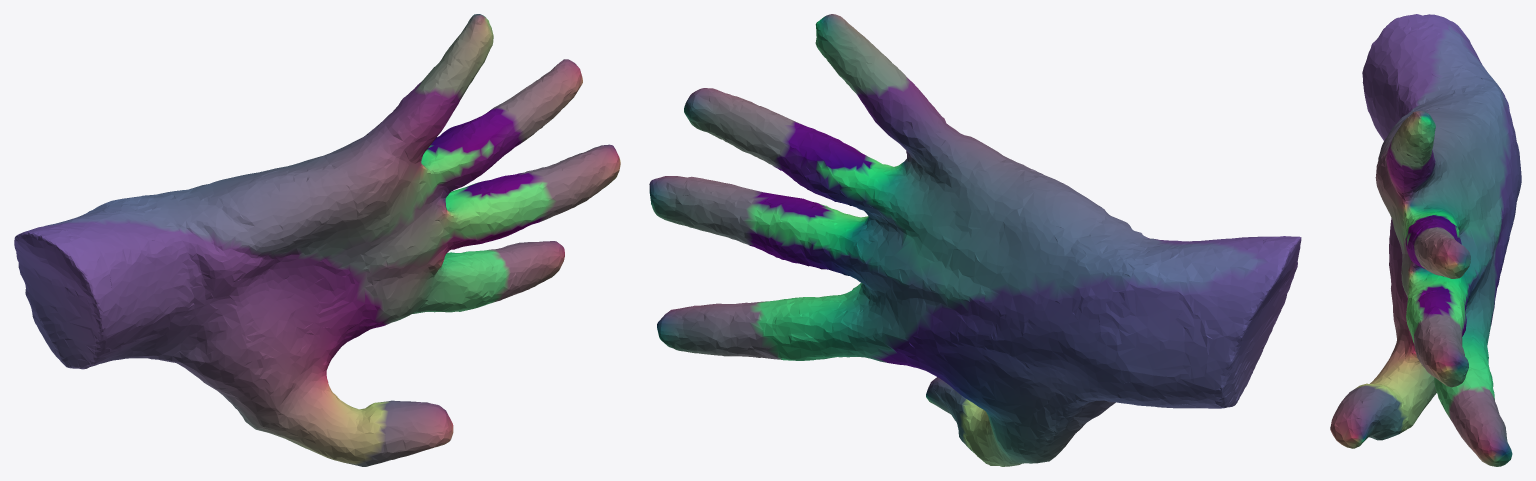
Rendered from hand-4.off.obj.
3 renders of one model, left to right at view 1: azimuth 30°, elevation 25°; view 2: azimuth 150°, elevation 25°; view 3: azimuth 270°, elevation 25°, orthographic. The views are drawn at different scales.
Bounding box in the file's own units: 1.76 × 1.13 × 0.504.
